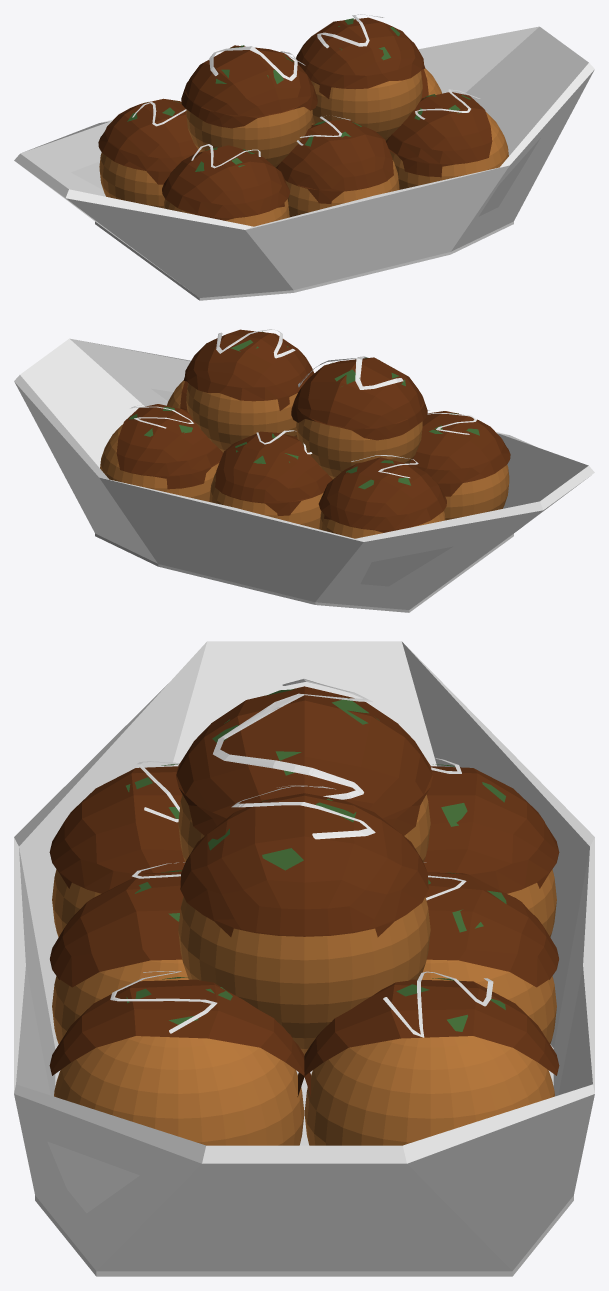
The model's file is takoyakiOctopusBalls.fbx.
3 views of the same model, one above another, from view 1: azimuth 30°, elevation 25°; view 2: azimuth 150°, elevation 25°; view 3: azimuth 270°, elevation 25° (orthographic). The views are drawn at different scales.
Parts seen in each view (by area): view 1: Cube, Grid, Grid.003, Grid.002, Grid.005, Grid.004, Grid.006, Takoyaki balls.007, Takoyaki balls, Takoyaki balls.006, Takoyaki balls.004, Takoyaki balls.002 (+3 smaller); view 2: Cube, Grid, Grid.006, Grid.002, Grid.007, Grid.008, Grid.003, Takoyaki balls.007, Takoyaki balls, Takoyaki balls.005, Takoyaki balls.003, Takoyaki balls.001 (+3 smaller); view 3: Cube, Grid.002, Grid, Takoyaki balls.003, Takoyaki balls.004, Takoyaki balls.007, Grid.003, Grid.006, Grid.004, Grid.008, Grid.005, Grid.007 (+9 smaller).
Part boxes in pixels (<box>): Cube: <box>14,26,594,300</box>; Grid: <box>181,45,317,128</box>; Grid.003: <box>162,145,290,220</box>; Grid.002: <box>296,17,425,98</box>; Grid.005: <box>276,119,393,203</box>; Grid.004: <box>386,92,492,177</box>; Grid.006: <box>98,98,199,184</box>; Takoyaki balls.007: <box>311,71,422,140</box>; Takoyaki balls: <box>186,107,312,167</box>; Takoyaki balls.006: <box>99,153,164,208</box>; Takoyaki balls.004: <box>389,112,508,189</box>; Takoyaki balls.002: <box>285,160,399,217</box>; Cube: <box>14,338,594,612</box>; Grid: <box>291,357,427,440</box>; Grid.006: <box>318,457,446,532</box>; Grid.002: <box>183,329,314,410</box>; Grid.007: <box>215,431,332,515</box>; Grid.008: <box>116,404,223,489</box>; Grid.003: <box>409,411,510,496</box>; Takoyaki balls.007: <box>186,383,297,452</box>; Takoyaki balls: <box>296,419,422,479</box>; Takoyaki balls.005: <box>444,465,509,520</box>; Takoyaki balls.003: <box>100,424,219,501</box>; Takoyaki balls.001: <box>209,472,323,529</box>; Cube: <box>14,641,594,1276</box>; Grid.002: <box>180,793,428,937</box>; Grid: <box>176,686,432,835</box>; Takoyaki balls.003: <box>304,1036,554,1145</box>; Takoyaki balls.004: <box>54,1036,304,1145</box>; Takoyaki balls.007: <box>178,896,430,1055</box>; Grid.003: <box>49,766,184,893</box>; Grid.006: <box>424,766,559,893</box>; Grid.004: <box>49,979,311,1096</box>; Grid.008: <box>297,979,559,1096</box>; Grid.005: <box>50,872,183,987</box>; Grid.007: <box>425,872,558,987</box>.
Size of the model in its own units: 337 by 116 by 161.
